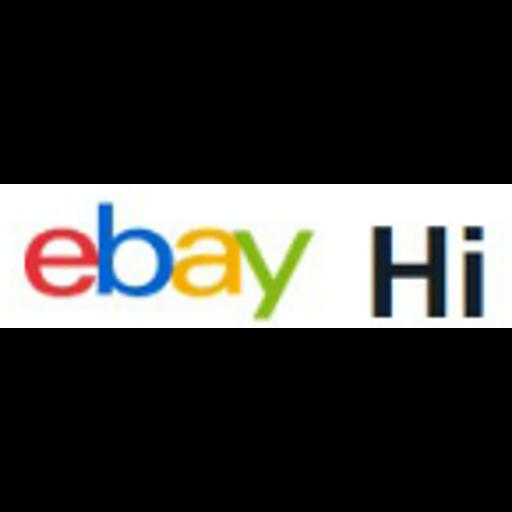eBay: (0, 184, 512, 328)
